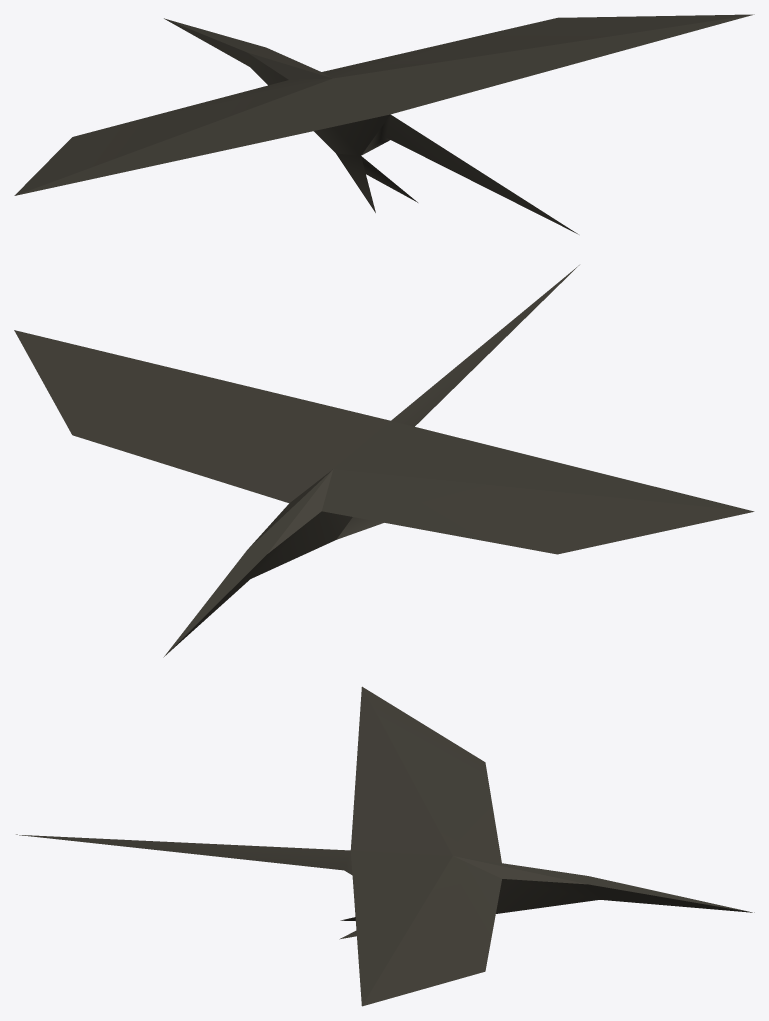
The model's file is BirdLOD.obj.
3 renders of one model, top to bottom at view 1: azimuth 30°, elevation 25°; view 2: azimuth 150°, elevation 25°; view 3: azimuth 270°, elevation 25°, orthographic. The views are drawn at different scales.
Visible parts, largest first — view 1: BirdLODMesh; view 2: BirdLODMesh; view 3: BirdLODMesh.
Boxes of the visible parts, bbox=[...] form: BirdLODMesh: bbox=[14, 14, 754, 234]; BirdLODMesh: bbox=[14, 265, 754, 657]; BirdLODMesh: bbox=[16, 686, 754, 1006].
Size of the model in its own units: 22.83 by 3.16 by 22.28.
